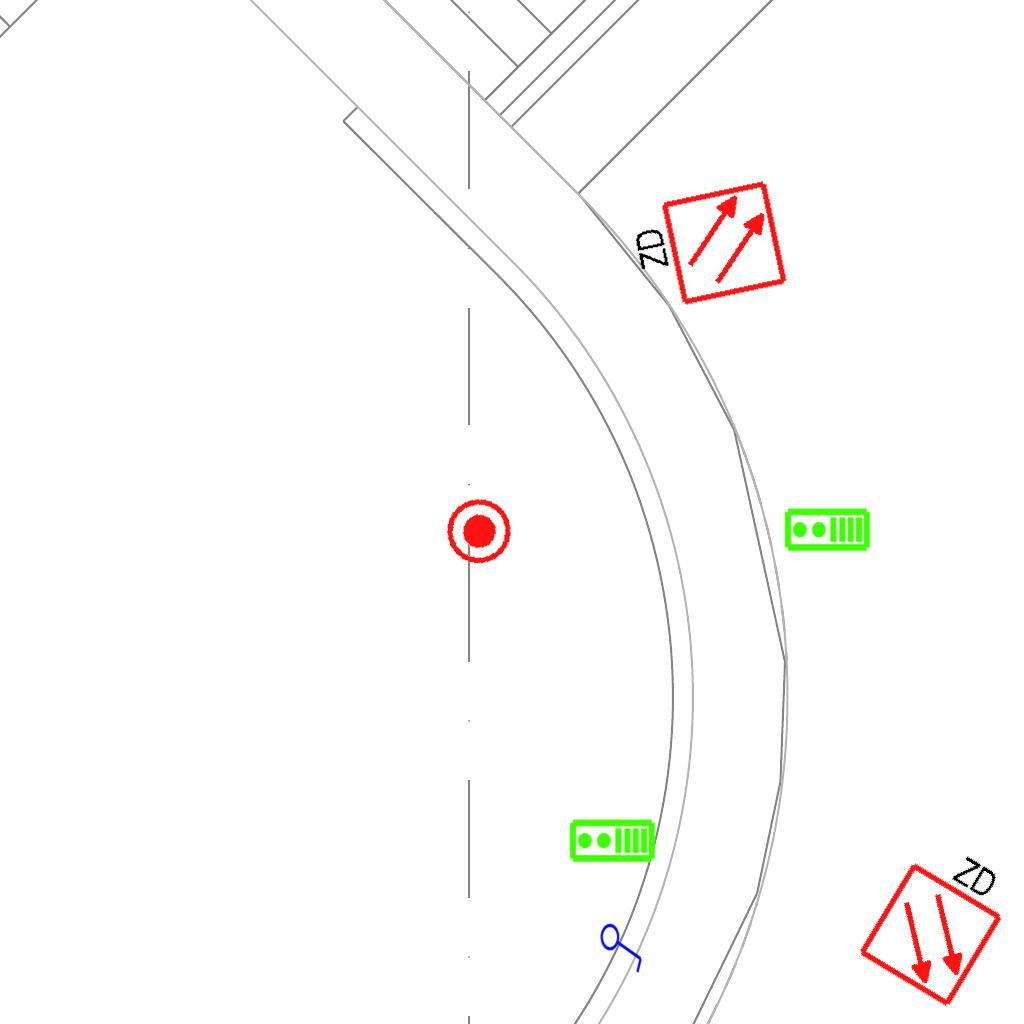Ausschalter: (599, 918, 647, 974)
Gegensprechanlage_mit_Video: (568, 818, 656, 865), (783, 507, 871, 554)
Taster: (442, 492, 518, 568)
ZD_Melder_in_Zwischendecke_mit_Revisionsoeffnung_mind_40_x_40_cm: (851, 824, 1024, 1011), (621, 177, 791, 320)
